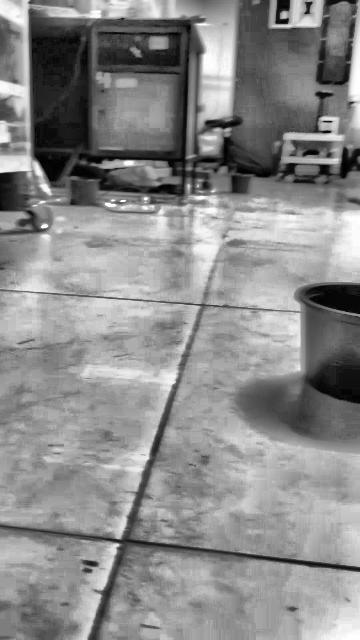pot: (297, 283, 360, 403)
